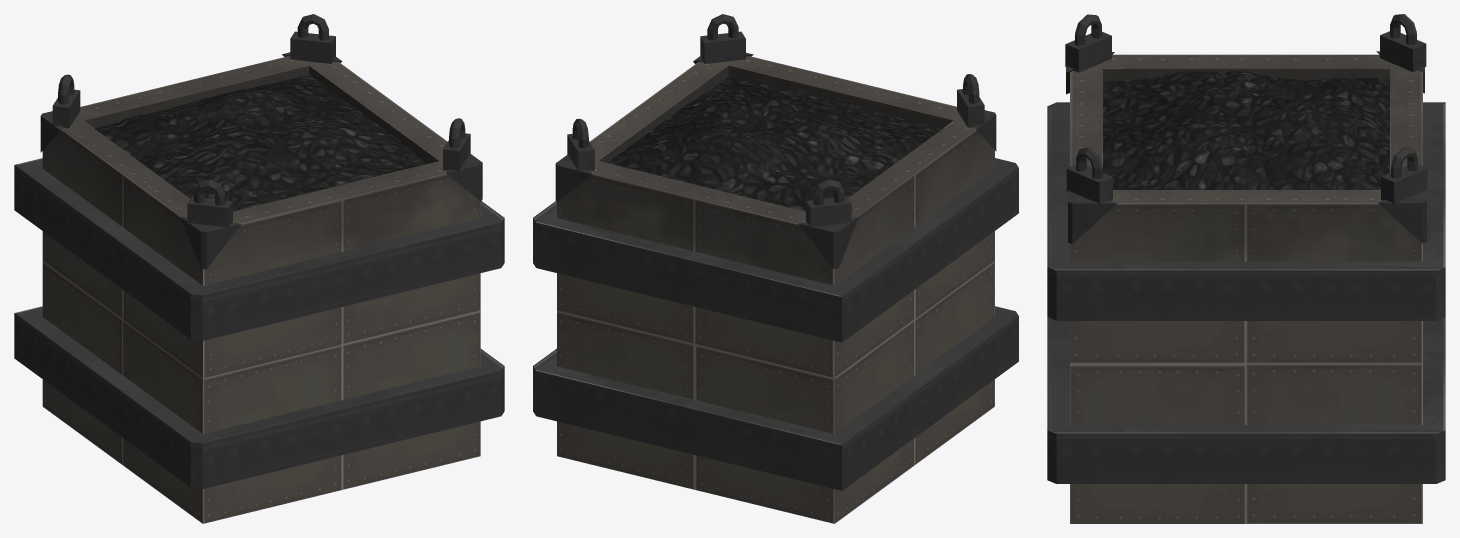
Rendered from Cart02.fbx.
3 views of the same model, side by side, from view 1: azimuth 30°, elevation 25°; view 2: azimuth 150°, elevation 25°; view 3: azimuth 270°, elevation 25° (orthographic). The views are drawn at different scales.
Visible parts, largest first — view 1: polySurface403; view 2: polySurface403; view 3: polySurface403.
Part boxes in pixels (x1,y1,x2,y2): polySurface403: [14, 14, 504, 523]; polySurface403: [533, 14, 1018, 523]; polySurface403: [1047, 14, 1445, 523].
Size of the model in its own units: 6.27 by 6.46 by 6.27.
